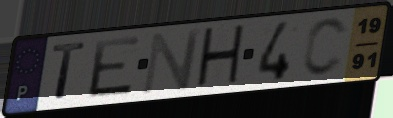4: (255, 19, 294, 83)
C: (299, 15, 351, 79)
E: (86, 33, 143, 100)
H: (193, 22, 248, 93)
N: (139, 26, 204, 97)
T: (51, 40, 89, 102)
